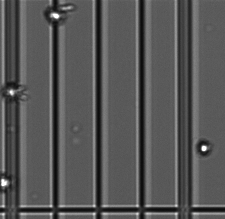Living Cell: (44, 6, 65, 25), (4, 83, 20, 100), (196, 140, 211, 156), (1, 174, 13, 192)
